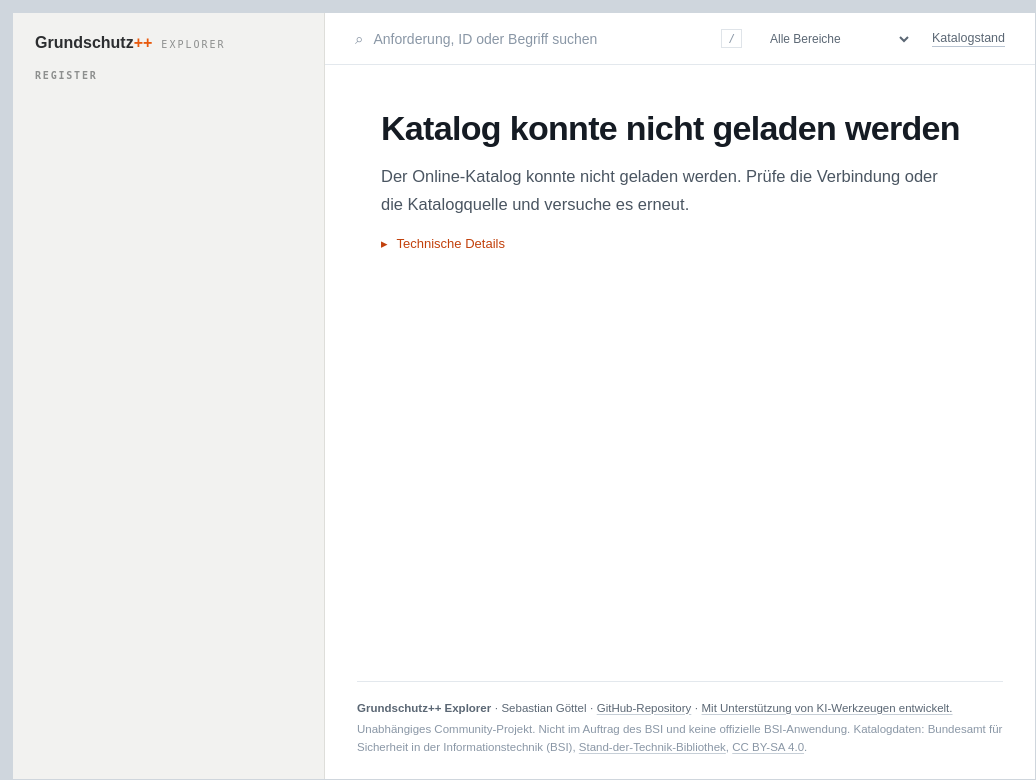
Test: App catalog navigation › keeps technical load errors behind a readable primary message
The image size is (1036, 780).
Expected: the heading "Katalog konnte nicht geladen werden" is shown, [381, 109, 963, 148]
Expected: the text "Der Online-Katalog konnte nicht geladen werden. Prüfe die Verbindung oder die Katalogquelle und versuche es erneut." is shown, [381, 167, 938, 213]
Click the heading "▸ Technische Details".
click(443, 244)  # box [381, 236, 505, 251]
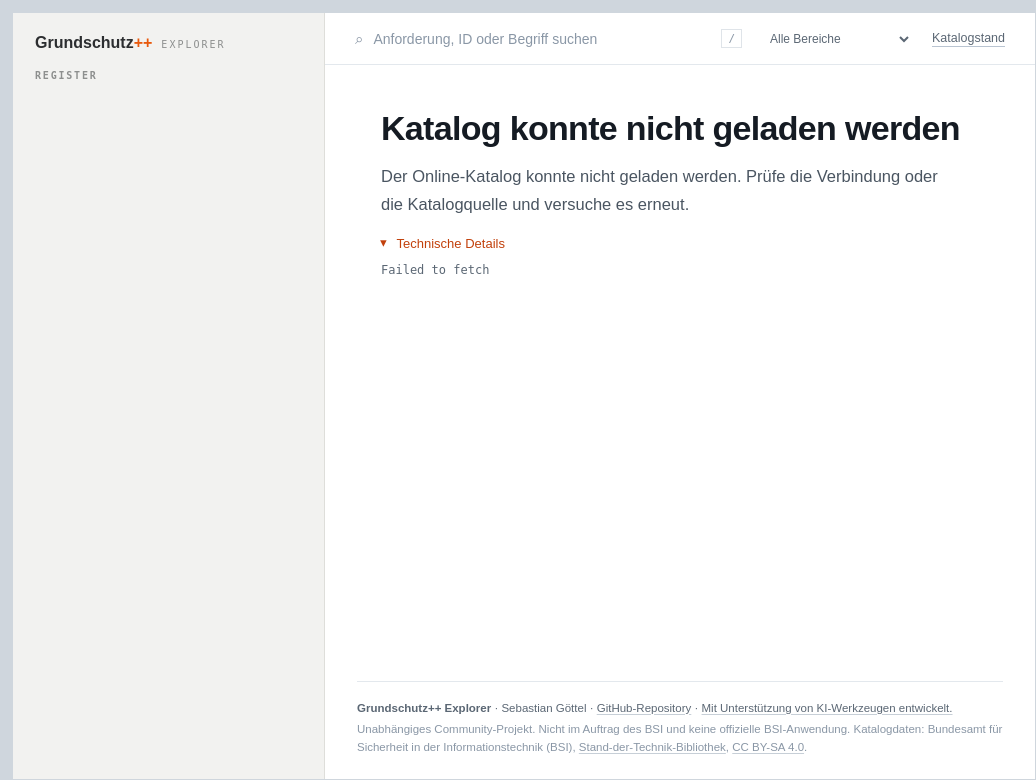
Expected: the footer named "Projektinformationen" is shown, [357, 681, 1003, 779]
Expected: the text "Failed to fetch" is shown, [381, 263, 489, 277]
